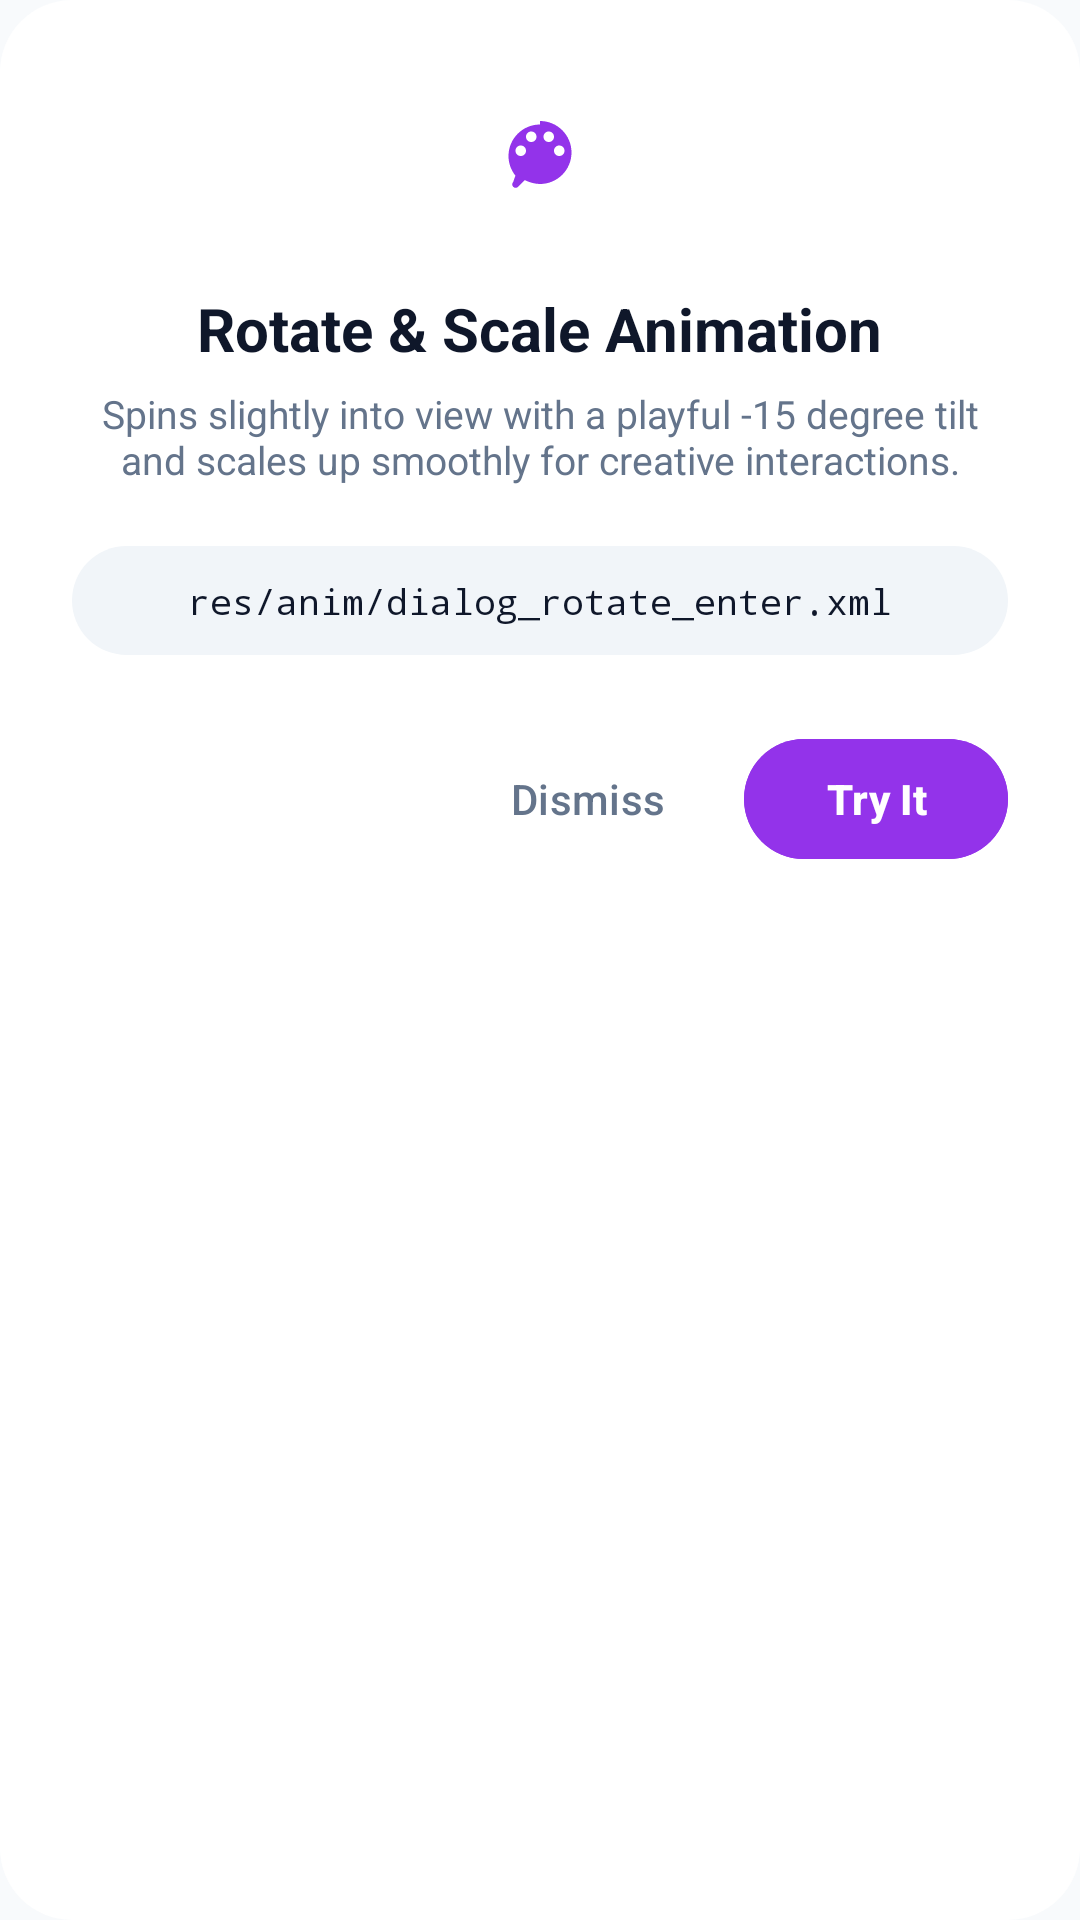

Screen size 1080w x 1920h. Icon name, then its box in pixels as (x1, y1, x2, y2):
palette: (508, 121, 572, 188)
